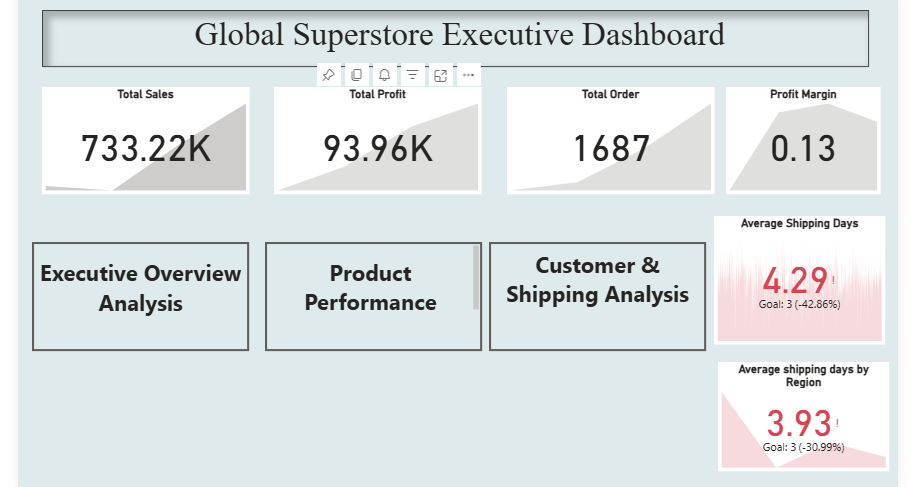

The dashboard page shown, as its layout file describes it:
{"tool":"powerbi","page":{"name":"Overview","canvas":[1280,720],"ordinal":0},"visuals":[{"type":"textbox","box":[34.9,23.8,1203.2,82.5],"z":0},{"type":"kpi","title":"Total Sales","fields":{"Indicator":["Sum(FactSuperstore.Sales)"],"TrendLine":["FactSuperstore.order_date.Variation.Date Hierarchy.Year"]},"box":[34.9,134.9,301.6,155.6],"z":1000},{"type":"kpi","title":"Total Profit","fields":{"Indicator":["FactSuperstore.total_profit"],"TrendLine":["FactSuperstore.order_date.Variation.Date Hierarchy.Year"]},"box":[373,134.9,301.6,155.6],"z":2000},{"type":"kpi","title":"Total Order","fields":{"Indicator":["Count(FactSuperstore.Order ID)"],"TrendLine":["FactSuperstore.order_date.Variation.Date Hierarchy.Year"]},"box":[711.1,134.9,301.6,155.6],"z":3000},{"type":"kpi","title":"Profit Margin","fields":{"Indicator":["FactSuperstore.Profit Margin"],"TrendLine":["FactSuperstore.order_date.Variation.Date Hierarchy.Year"]},"box":[1030.2,134.9,225.4,155.6],"z":4000},{"type":"kpi","title":"Average Shipping Days","fields":{"Indicator":["Avg(FactSuperstore.shipping_days)"],"TrendLine":["FactSuperstore.order_date"],"Goal":["FactSuperstore.shipping_day_target"]},"box":[1012.7,322.2,249.2,187.3],"z":5000},{"type":"kpi","title":"Average shipping days by Region","fields":{"TrendLine":["dimRegion.Region"],"Indicator":["FactSuperstore.Average_shipping_days"],"Goal":["FactSuperstore.shipping_day_target"]},"box":[1017.5,534.9,249.2,158.7],"z":6000},{"type":"actionButton","box":[20.6,360.3,315.9,158.7],"z":7000},{"type":"textbox","box":[20.6,360.3,315.9,120.6],"z":8000},{"type":"actionButton","box":[358.7,360.3,315.9,158.7],"z":8001},{"type":"actionButton","box":[685.7,360.3,315.9,158.7],"z":8002},{"type":"textbox","box":[358.7,360.3,315.9,107.9],"z":8003},{"type":"textbox","box":[685.7,365.1,315.9,109.5],"z":8004}]}

Visuals, with their boxes on the page's 1280x720 design canvas (x1, y1, x2, y2). These are canvas units, not pixel positions in the 911x487 screenshot, which may show the page scaled, cropped or inside an application window:
textbox: (x1=35, y1=24, x2=1238, y2=106)
"Total Sales" kpi: (x1=35, y1=135, x2=336, y2=290)
"Total Profit" kpi: (x1=373, y1=135, x2=675, y2=290)
"Total Order" kpi: (x1=711, y1=135, x2=1013, y2=290)
"Profit Margin" kpi: (x1=1030, y1=135, x2=1256, y2=290)
"Average Shipping Days" kpi: (x1=1013, y1=322, x2=1262, y2=510)
"Average shipping days by Region" kpi: (x1=1018, y1=535, x2=1267, y2=694)
actionButton: (x1=21, y1=360, x2=336, y2=519)
textbox: (x1=21, y1=360, x2=336, y2=481)
actionButton: (x1=359, y1=360, x2=675, y2=519)
actionButton: (x1=686, y1=360, x2=1002, y2=519)
textbox: (x1=359, y1=360, x2=675, y2=468)
textbox: (x1=686, y1=365, x2=1002, y2=475)
